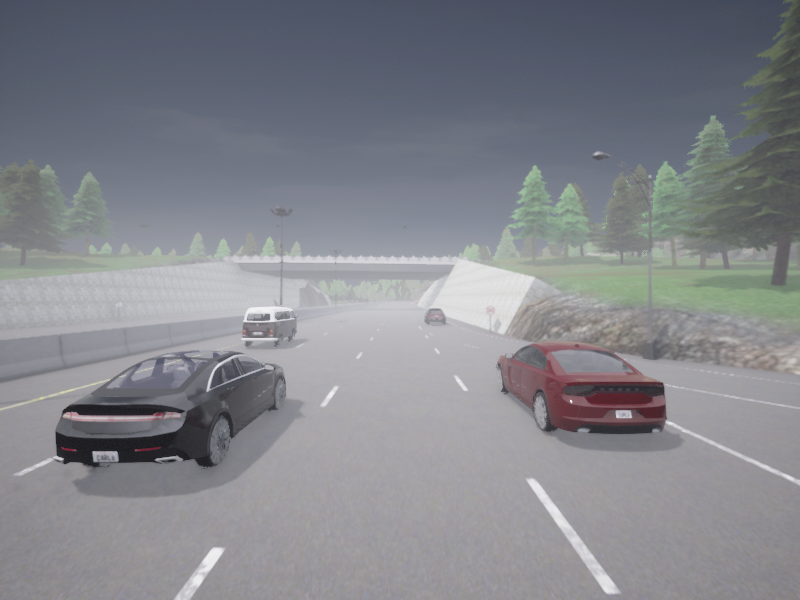vehicle: (52, 350, 285, 467), (497, 341, 667, 433), (241, 307, 297, 346), (424, 308, 445, 324)
